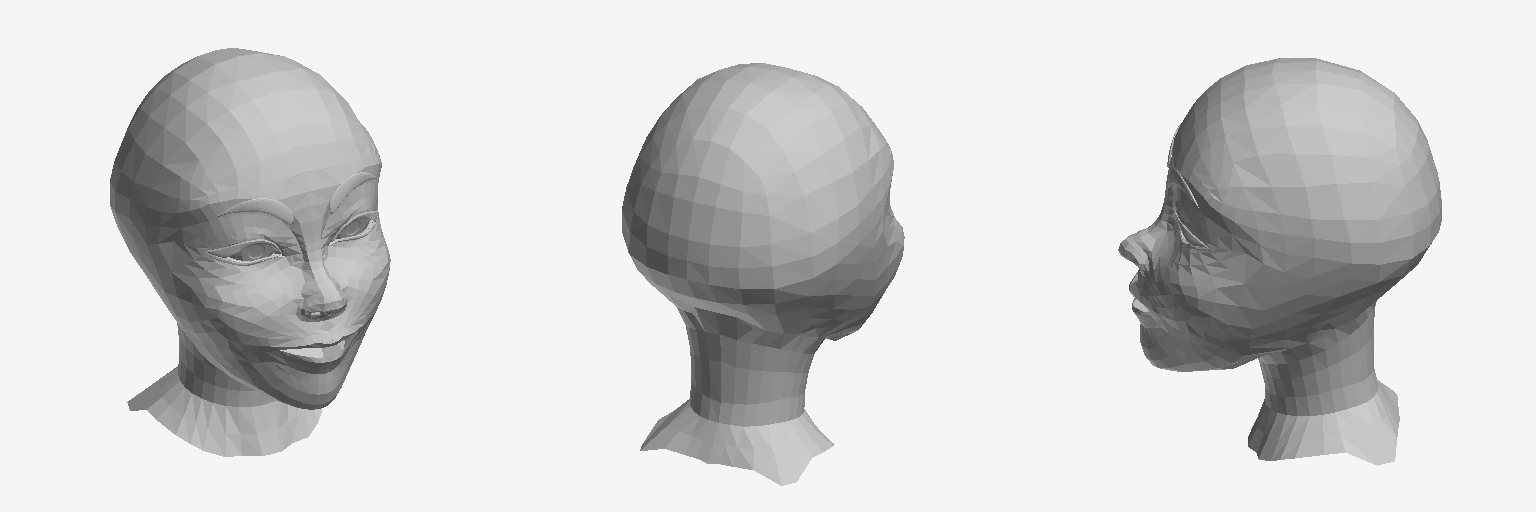
3 renders of one model, left to right at view 1: azimuth 30°, elevation 25°; view 2: azimuth 150°, elevation 25°; view 3: azimuth 270°, elevation 25°, orthographic.
Visible parts, largest first — view 1: e_body_Plane.010; view 2: e_body_Plane.010; view 3: e_body_Plane.010.
Boxes of the visible parts, x1=… form: e_body_Plane.010: x1=110, y1=48, x2=390, y2=456; e_body_Plane.010: x1=622, y1=63, x2=904, y2=485; e_body_Plane.010: x1=1118, y1=58, x2=1441, y2=465.
Size of the model in its own units: 0.7869 by 1.29 by 1.01.